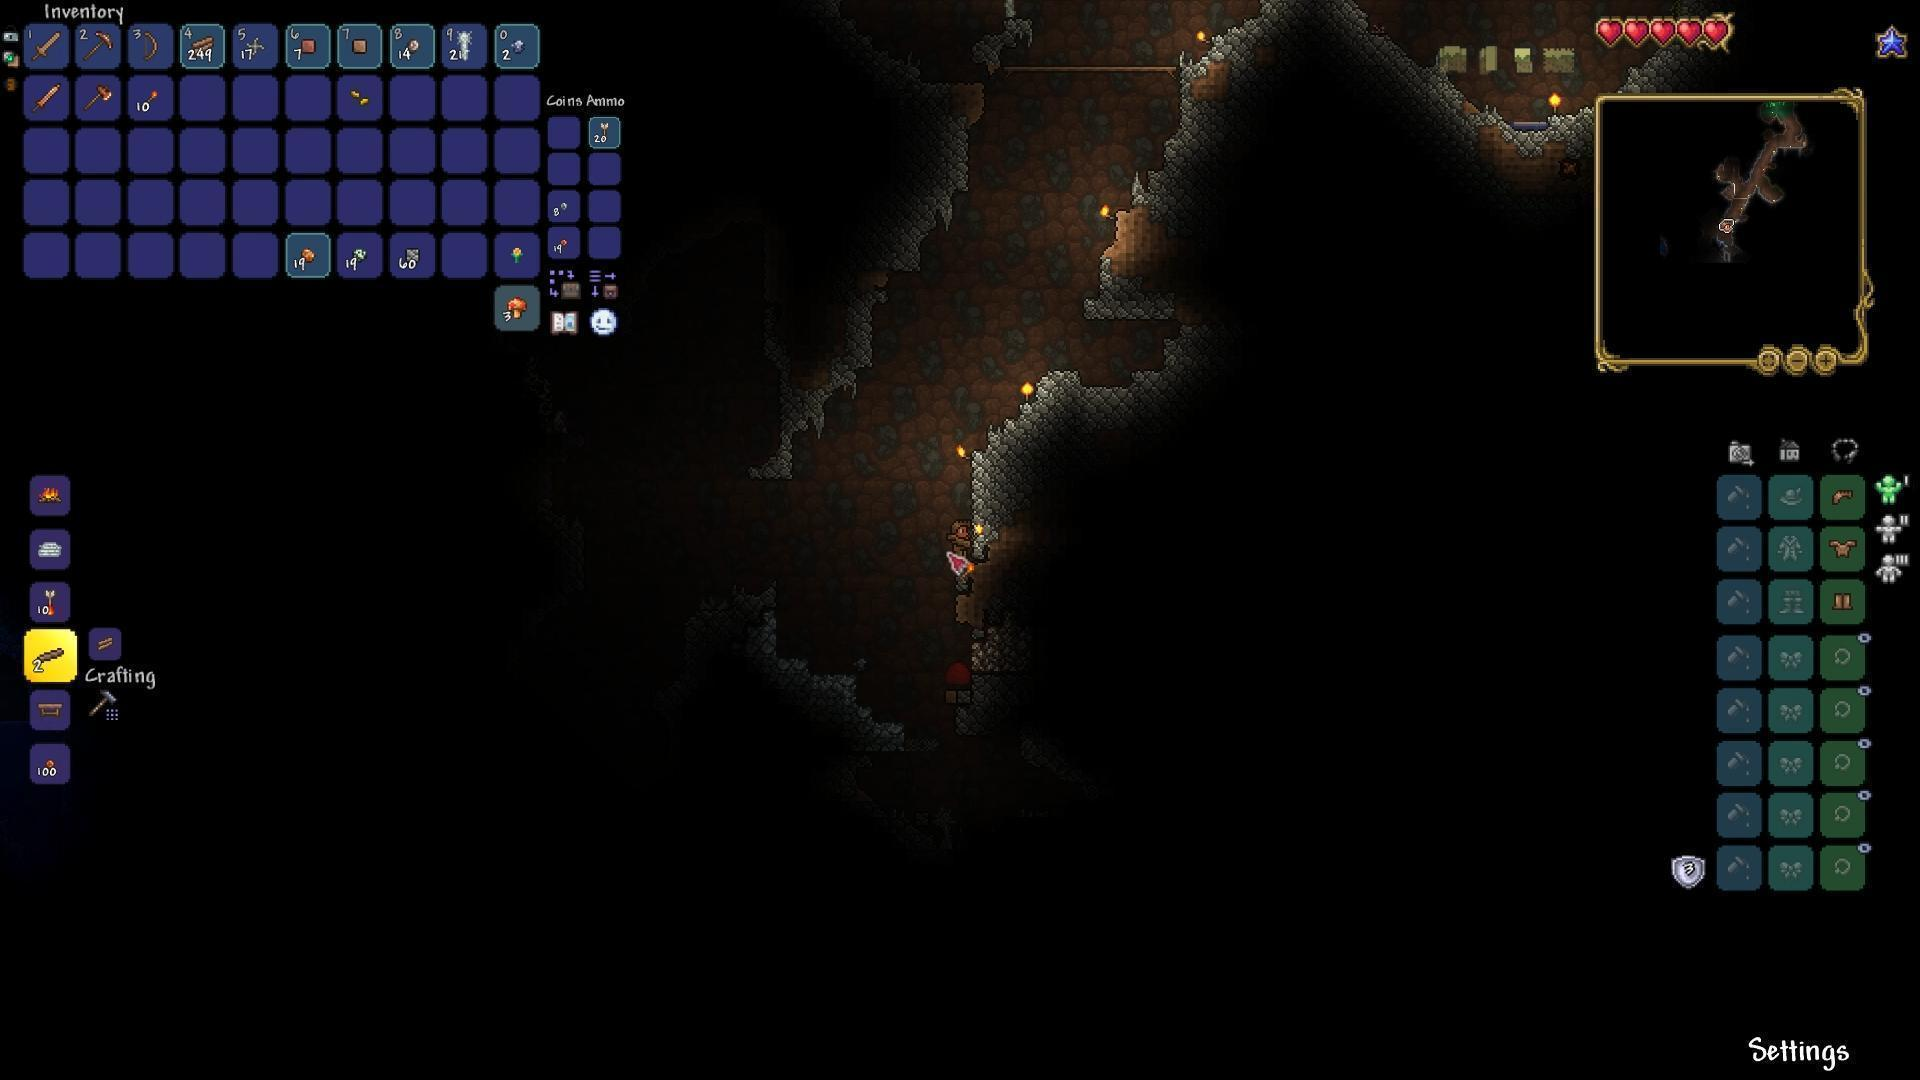bow: (140, 26, 161, 65)
breastplate: (1828, 538, 1859, 556)
heart: (1648, 17, 1677, 50), (1623, 16, 1651, 50), (1594, 17, 1625, 47), (1702, 17, 1727, 47), (1679, 18, 1702, 47)
pickaxe: (79, 30, 113, 63)
rope: (454, 26, 472, 59)
shuriken: (244, 36, 264, 55)
slime: (936, 655, 980, 694)
wood: (190, 34, 216, 54), (95, 638, 113, 651)
